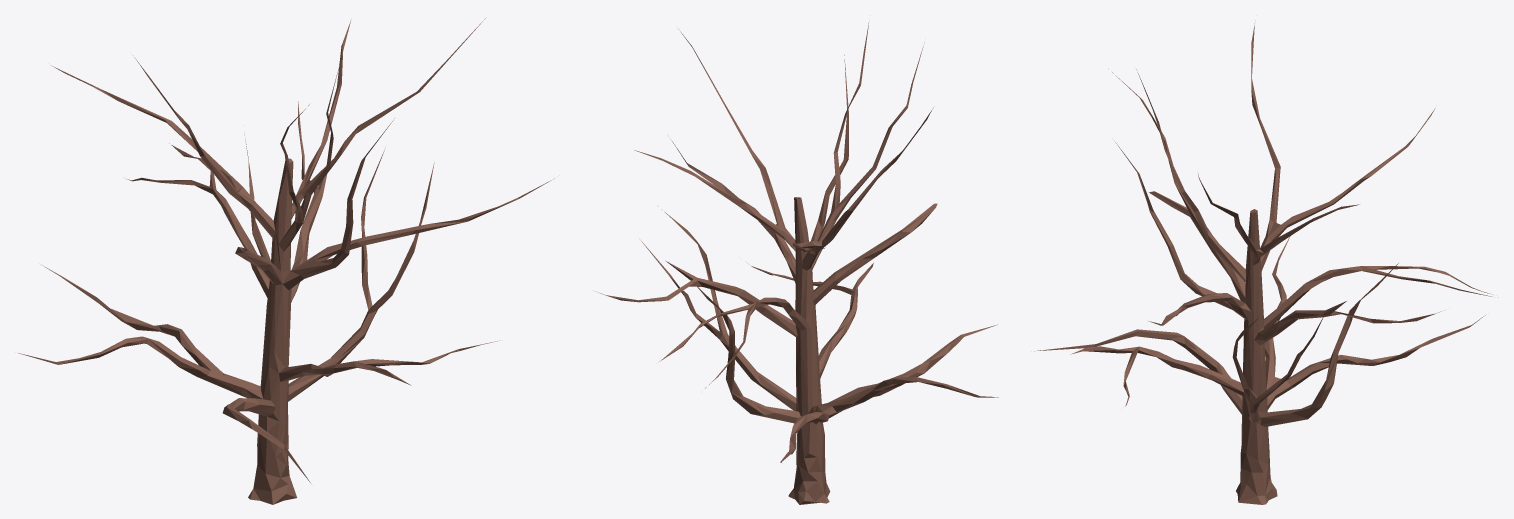
Rendered from dead_tree_g.FBX.
The picture shows the model from 3 angles, left to right: view 1: azimuth 30°, elevation 25°; view 2: azimuth 150°, elevation 25°; view 3: azimuth 270°, elevation 25°; orthographic projection. The views are drawn at different scales.
Visible parts, largest first — view 1: dead_tree_g_LOD0; view 2: dead_tree_g_LOD0; view 3: dead_tree_g_LOD0.
Boxes of the visible parts, <box> form: dead_tree_g_LOD0: <box>18,18,554,504</box>; dead_tree_g_LOD0: <box>595,21,998,504</box>; dead_tree_g_LOD0: <box>1034,20,1492,504</box>.
Size of what is drawn, in the model's own units: 1341 by 1362 by 1338.
